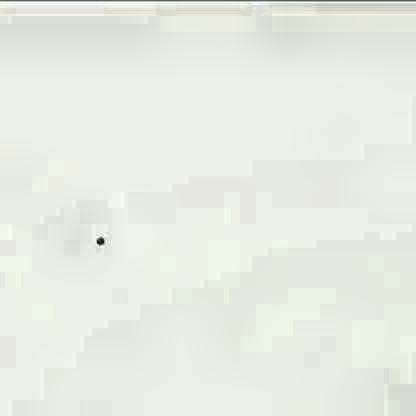golfball: (93, 237, 104, 244)
